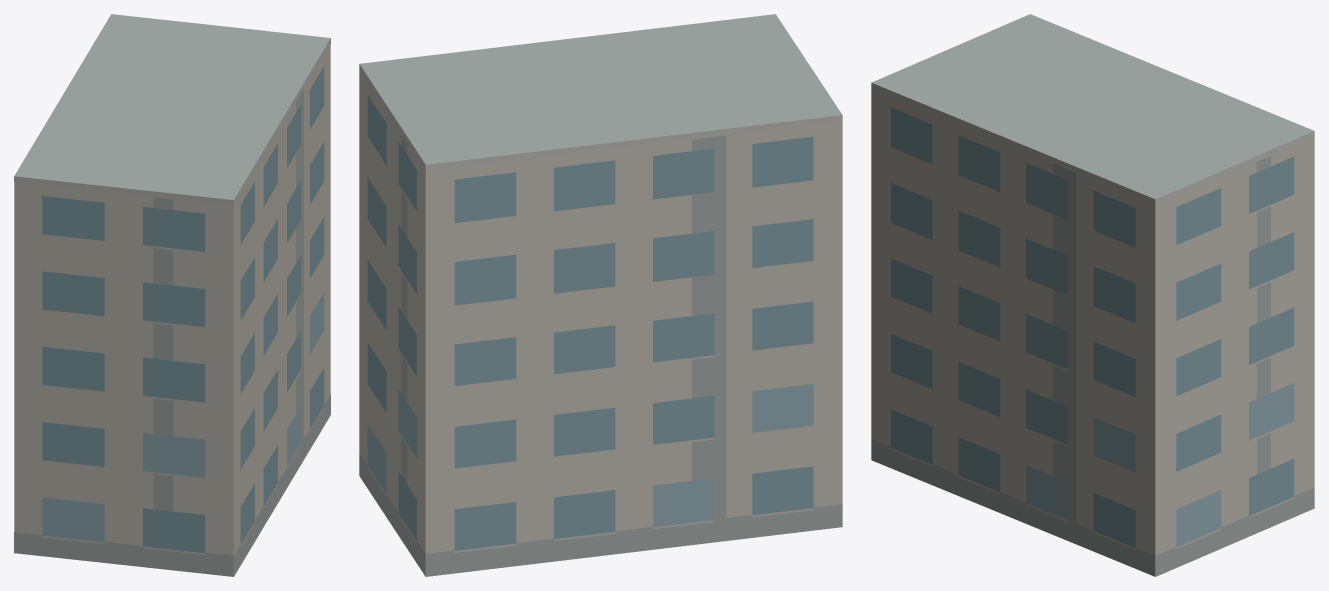
Rendered from survey-upis-32798645.glb.
3 views of the same model, side by side, from view 1: azimuth 30°, elevation 25°; view 2: azimuth 150°, elevation 25°; view 3: azimuth 270°, elevation 25° (orthographic). The views are drawn at different scales.
Parts seen in each view (by area): view 1: survey-upis-32798645.tmp; view 2: survey-upis-32798645.tmp; view 3: survey-upis-32798645.tmp.
Part boxes in pixels (x1,y1,x2,y2): survey-upis-32798645.tmp: (14, 14, 330, 576); survey-upis-32798645.tmp: (359, 14, 842, 576); survey-upis-32798645.tmp: (871, 14, 1314, 576).
Size of the model in its own units: 16.07 by 15.25 by 16.24.
